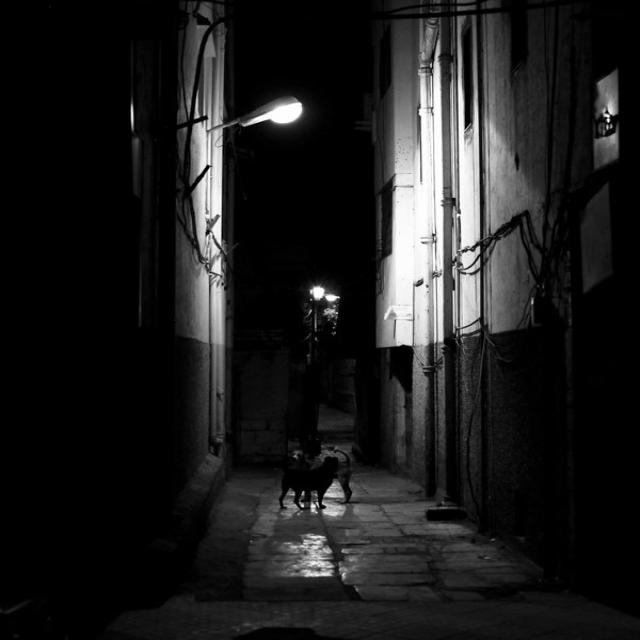Dog: (19, 294, 475, 559)
